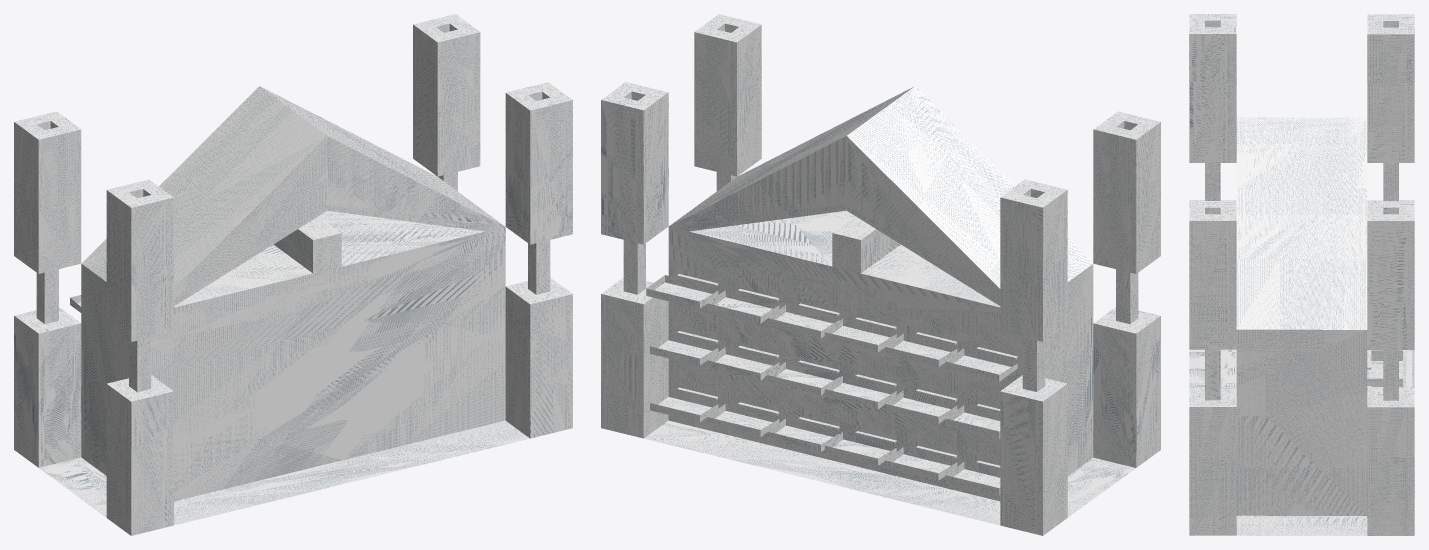
The model's file is sketchup_house.obj.
3 views of the same model, side by side, from view 1: azimuth 30°, elevation 25°; view 2: azimuth 150°, elevation 25°; view 3: azimuth 270°, elevation 25° (orthographic). The views are drawn at different scales.
Visible parts, largest first — view 1: Mesh65 Model, Mesh3 beam_with_hole2 Model, Mesh5 beam_with_hole3 Model, Mesh7 beam_with_hole4 Model, Mesh9 beam_with_hole5 Model; view 2: Mesh65 Model, Mesh9 beam_with_hole5 Model, Mesh3 beam_with_hole2 Model, Mesh5 beam_with_hole3 Model, Mesh7 beam_with_hole4 Model, Mesh1 beam_with_hole1 Model, Mesh51 Window14 Model, Mesh12 Window1 Model, Mesh15 Window2 Model, Mesh18 Window3 Model, Mesh57 Window16 Model, Mesh27 Window6 Model (+29 smaller); view 3: Mesh65 Model, Mesh3 beam_with_hole2 Model, Mesh5 beam_with_hole3 Model, Mesh7 beam_with_hole4 Model, Mesh9 beam_with_hole5 Model, Mesh1 beam_with_hole1 Model, Mesh66 Model, Mesh27 Window6 Model.
Part boxes in pixels (x1,y1,x2,y2): Mesh65 Model: [14, 86, 572, 535]; Mesh3 beam_with_hole2 Model: [14, 111, 81, 273]; Mesh5 beam_with_hole3 Model: [106, 179, 173, 341]; Mesh7 beam_with_hole4 Model: [505, 82, 572, 244]; Mesh9 beam_with_hole5 Model: [413, 14, 480, 176]; Mesh65 Model: [644, 86, 1160, 535]; Mesh9 beam_with_hole5 Model: [601, 82, 668, 244]; Mesh3 beam_with_hole2 Model: [1000, 179, 1067, 341]; Mesh5 beam_with_hole3 Model: [1093, 111, 1160, 273]; Mesh7 beam_with_hole4 Model: [694, 14, 761, 176]; Mesh1 beam_with_hole1 Model: [601, 277, 668, 438]; Mesh51 Window14 Model: [885, 433, 957, 480]; Mesh12 Window1 Model: [707, 333, 779, 380]; Mesh15 Window2 Model: [707, 276, 779, 323]; Mesh18 Window3 Model: [707, 389, 779, 437]; Mesh57 Window16 Model: [945, 334, 1017, 381]; Mesh27 Window6 Model: [646, 261, 718, 308]; Mesh65 Model: [1189, 117, 1414, 535]; Mesh3 beam_with_hole2 Model: [1367, 14, 1414, 162]; Mesh5 beam_with_hole3 Model: [1189, 14, 1236, 162]; Mesh7 beam_with_hole4 Model: [1189, 201, 1236, 349]; Mesh9 beam_with_hole5 Model: [1367, 201, 1414, 349]; Mesh1 beam_with_hole1 Model: [1367, 387, 1414, 535]; Mesh66 Model: [1383, 350, 1398, 400]; Mesh27 Window6 Model: [1367, 353, 1402, 385].
Bounding box in the file's own units: 1.24 × 0.88 × 0.5715.
